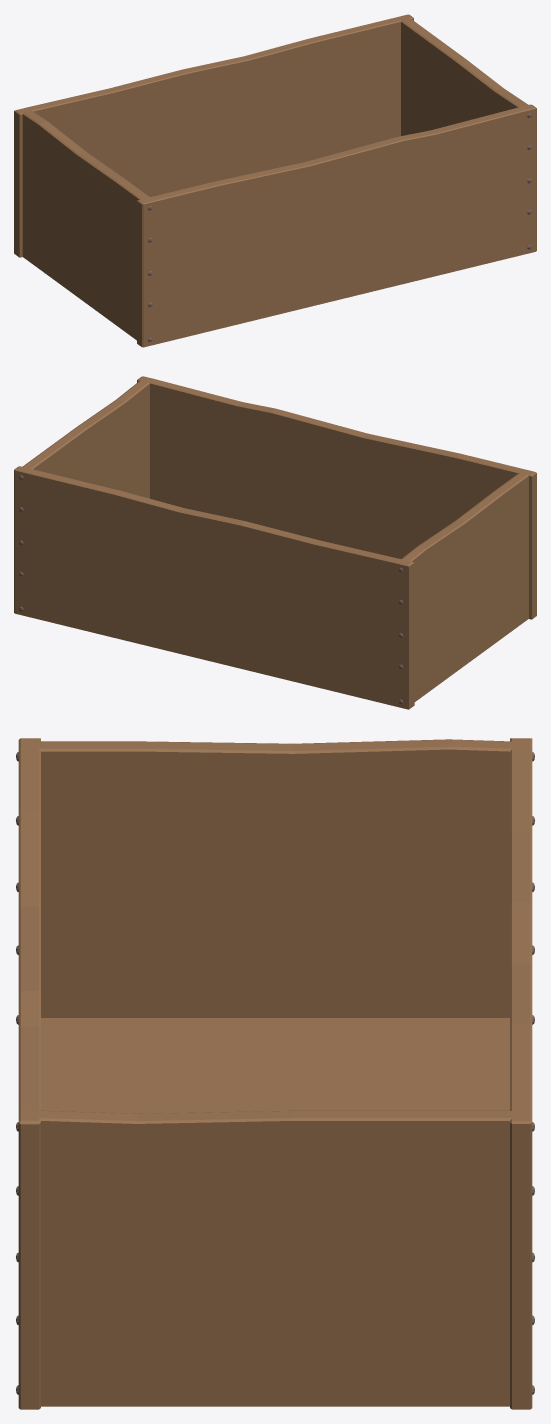
File: LVR_Crate_03.fbx
3 renders of one model, top to bottom at view 1: azimuth 30°, elevation 25°; view 2: azimuth 150°, elevation 25°; view 3: azimuth 270°, elevation 25°, orthographic. The views are drawn at different scales.
Parts seen in each view (by area): view 1: Crate 03; view 2: Crate 03; view 3: Crate 03.
Boxes of the visible parts, x1,y1,x2,y2 form: Crate 03: (14,14,536,347); Crate 03: (14,376,536,709); Crate 03: (16,738,534,1409).
Size of the model in its own units: 120 by 42.08 by 68.23.
